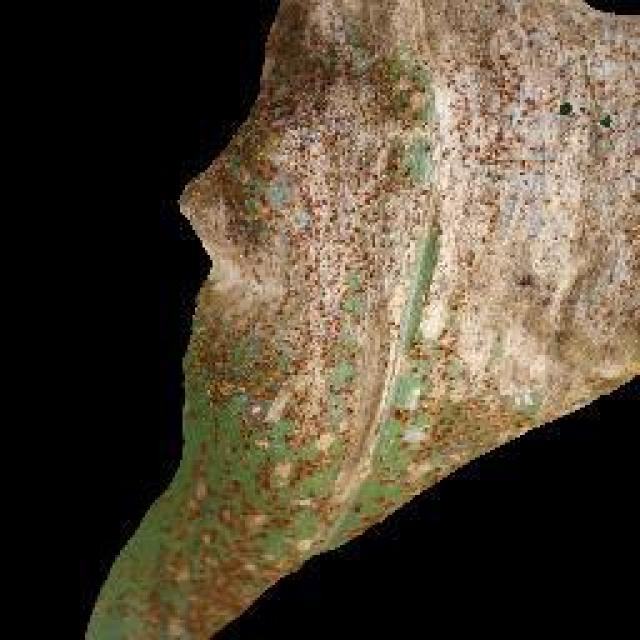Corn Common Rust: (227, 15, 598, 517)
